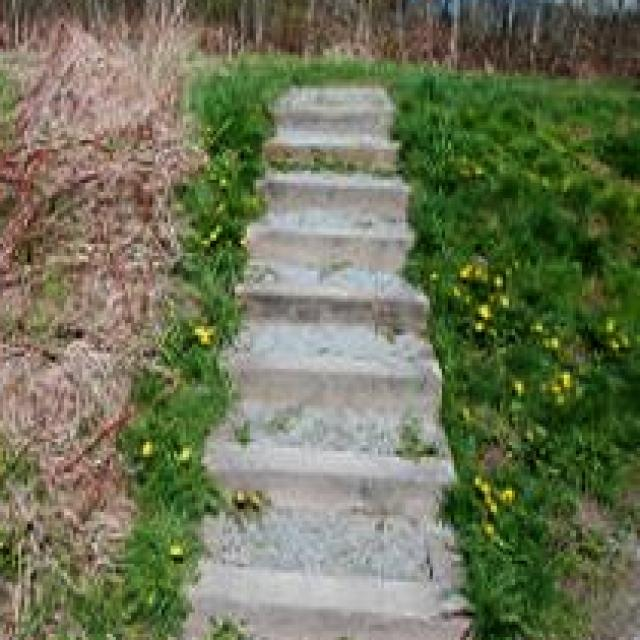upstair: (169, 220, 495, 626)
